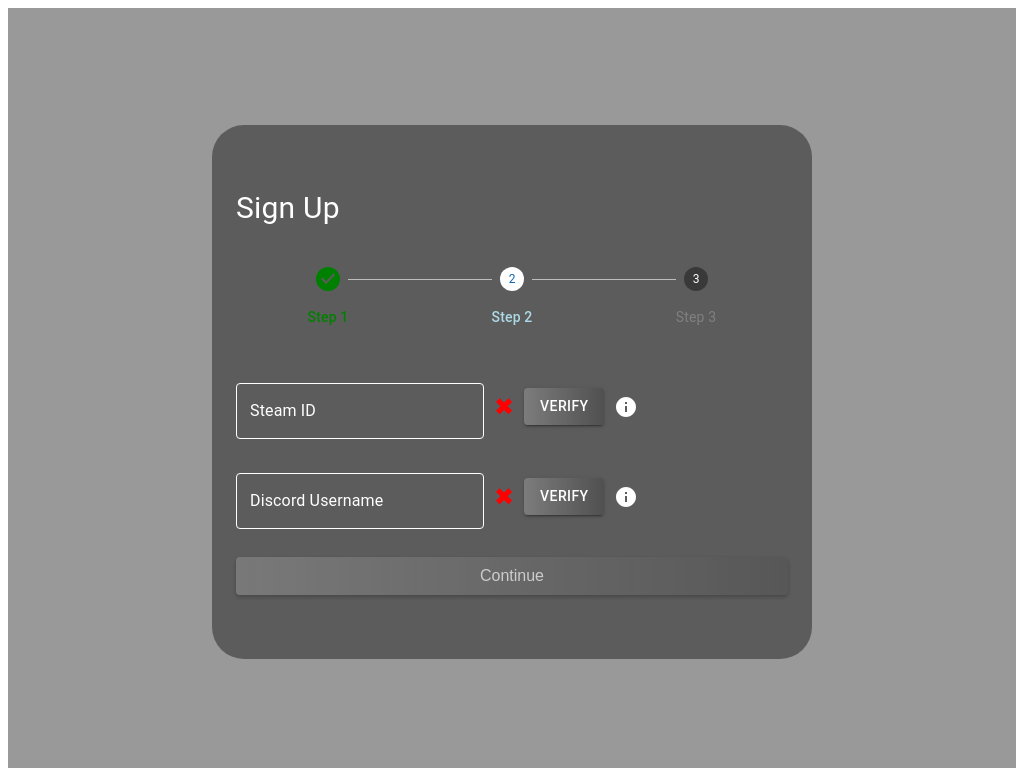
Test: SignUpIdDetails Component › displays error when Discord Username is not provided
Click the button "Verify" next to "Discord Username".
click(564, 497)  # box x1=524 y1=478 x2=604 y2=515
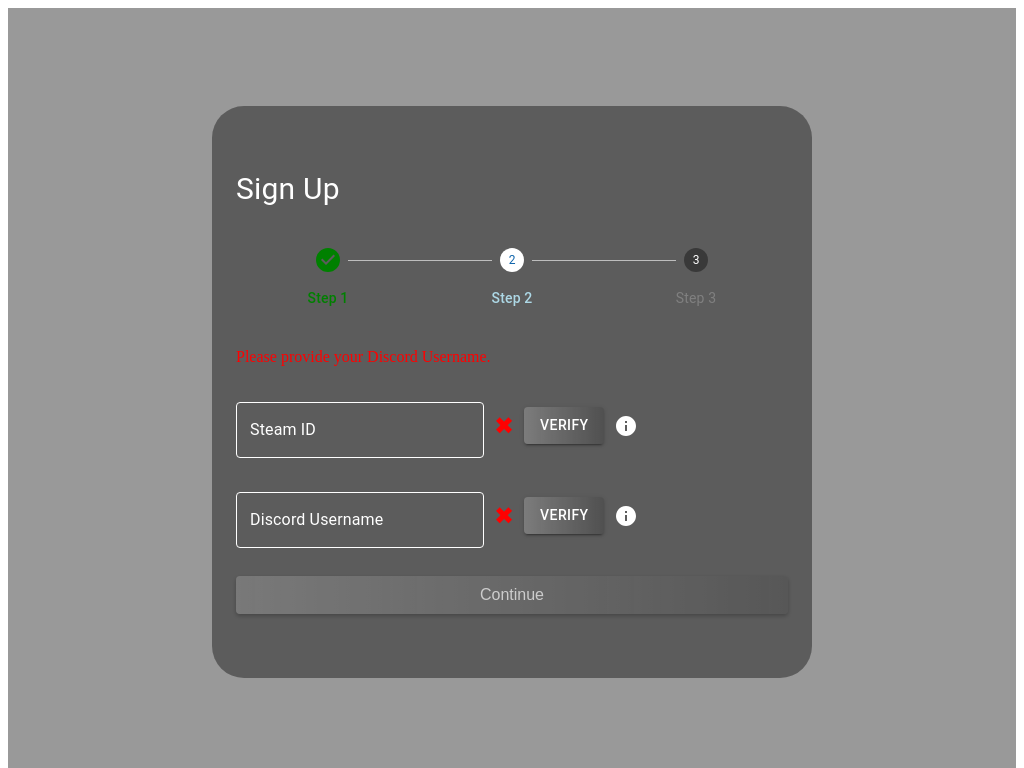
Now the text "Please provide your Discord Username." is shown, box x1=236 y1=348 x2=491 y2=364
